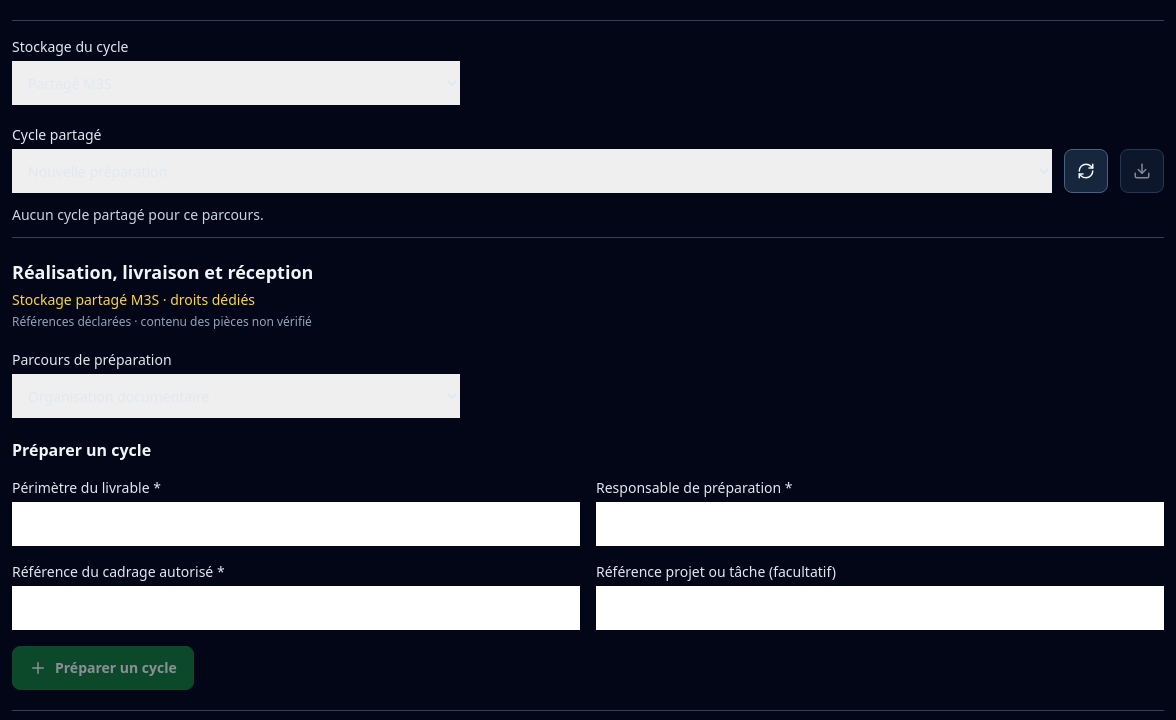
Test case: changing to a path without its own decision refuses access
Check: the text "Aucun cycle partagé pour ce parcours." is shown, box [12,205,264,224]
Select "RH de proximité" in the dropdown labelled "Parcours de préparation" at (236, 396), box [12,374,460,418]
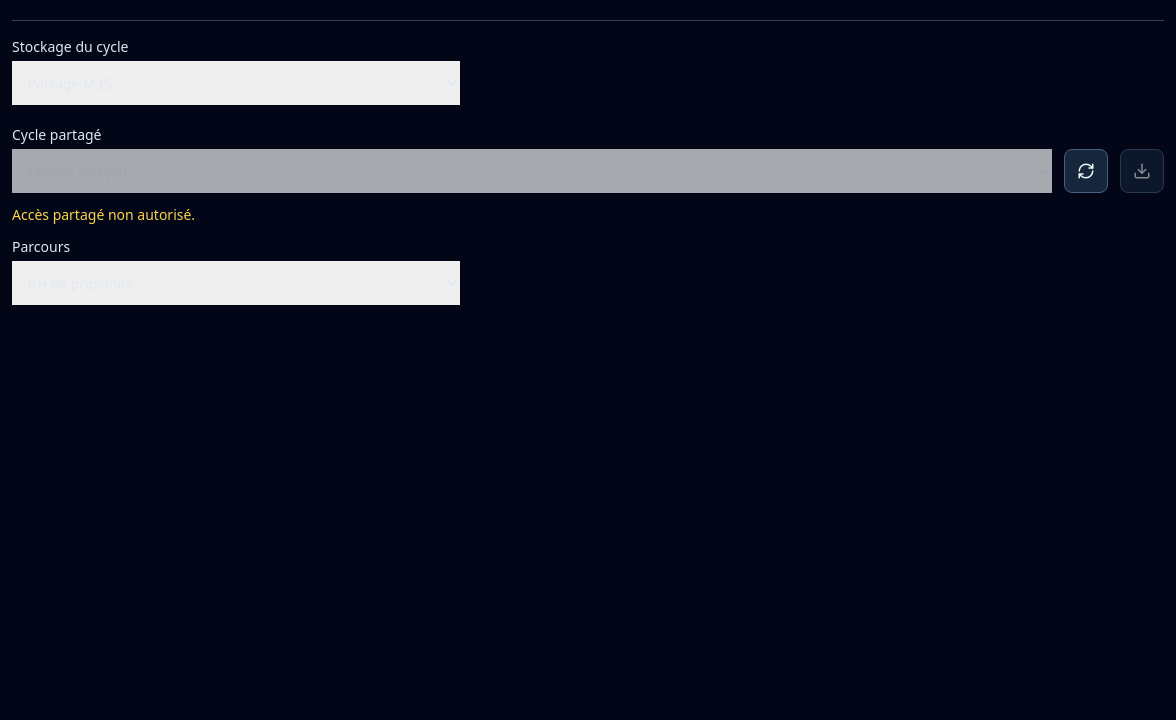
Check: the message shows "Accès partagé non autorisé", box [12,205,195,224]
Check: the text labelled "Périmètre du livrable" is gone
